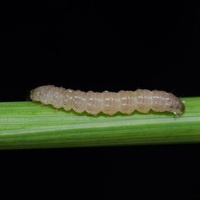insect: (30, 85, 183, 115)
